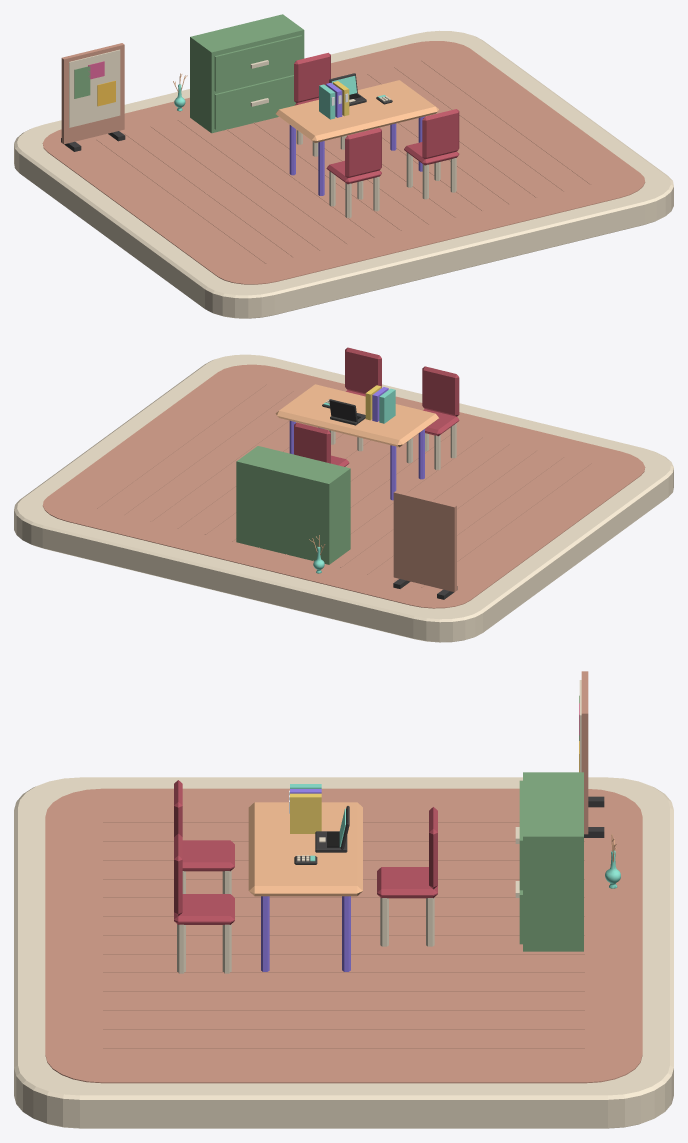
Rendered from room.fbx.
3 views of the same model, one above another, from view 1: azimuth 30°, elevation 25°; view 2: azimuth 150°, elevation 25°; view 3: azimuth 270°, elevation 25° (orthographic). The views are drawn at different scales.
Parts seen in each view (by area): view 1: COM-02 Floor Surface, COM-01 Rounded Base Direct, Cabinet, Rounded table top, Canvas, Panel, Backrest.001, Backrest, Backrest.002, Abstract geometric work, Seat.001, File (+1 smaller); view 2: COM-02 Floor Surface, COM-01 Rounded Base Direct, Cabinet, Panel, Rounded table top, Backrest, Backrest.001, Backrest.002, File, Seat, Hinged display; view 3: COM-02 Floor Surface, COM-01 Rounded Base Direct, Cabinet, Rounded table top, Seat.002, Seat.001, Seat, File.002, Panel, Plank seam.010, Plank seam.011, Plank seam.012 (+6 smaller).
Part boxes in pixels (box(x1,y1,x2,y2)): COM-02 Floor Surface: box(42, 41, 645, 284); COM-01 Rounded Base Direct: box(14, 30, 673, 318); Cabinet: box(190, 14, 304, 133); Rounded table top: box(276, 80, 438, 142); Canvas: box(69, 49, 120, 127); Panel: box(61, 43, 124, 144); Backrest.001: box(422, 109, 459, 159); Backrest: box(345, 128, 381, 178); Backrest.002: box(294, 52, 330, 102); Abstract geometric work: box(74, 66, 90, 98); Seat.001: box(404, 142, 459, 165); File: box(319, 84, 335, 119); COM-02 Floor Surface: box(42, 364, 645, 608); COM-01 Rounded Base Direct: box(14, 354, 673, 642); Cabinet: box(236, 446, 350, 564); Panel: box(393, 491, 456, 592); Rounded table top: box(275, 384, 438, 447); Backrest: box(422, 366, 459, 416); Backrest.001: box(345, 347, 381, 394); Backrest.002: box(294, 422, 330, 463); File: box(379, 388, 395, 423); Seat: box(423, 409, 459, 436); Hinged display: box(329, 399, 357, 422); COM-02 Floor Surface: box(45, 788, 642, 1083); COM-01 Rounded Base Direct: box(14, 777, 673, 1128); Cabinet: box(515, 772, 583, 951); Rounded table top: box(248, 802, 362, 896); Seat.002: box(377, 867, 437, 898); Seat.001: box(174, 894, 234, 924); Seat: box(182, 840, 234, 871); File.002: box(290, 793, 321, 833); Panel: box(581, 671, 588, 834); Plank seam.010: box(103, 1009, 584, 1010); Plank seam.011: box(103, 1028, 584, 1029); Plank seam.012: box(103, 1047, 584, 1048).
Bounding box in the file's own units: 600 × 142 × 520.
